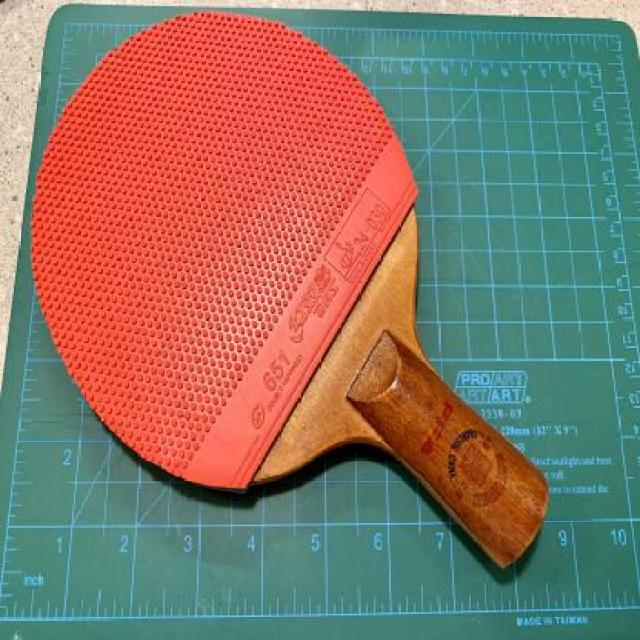table_tennis_racket: (28, 0, 424, 503)
